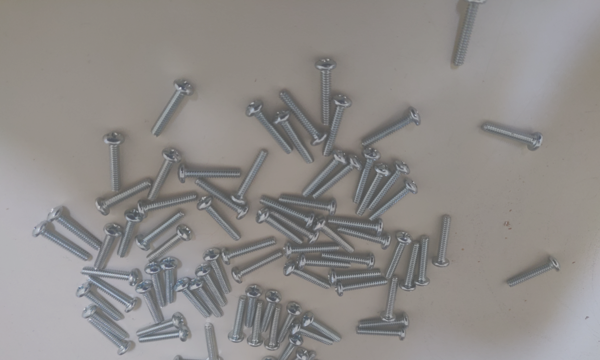longscrew: (249, 101, 295, 155), (149, 78, 192, 135), (137, 145, 180, 202), (281, 91, 324, 145), (298, 151, 347, 197), (314, 155, 363, 200), (362, 109, 421, 146), (276, 112, 314, 167), (137, 208, 183, 253), (370, 181, 420, 222), (34, 227, 87, 265), (324, 92, 353, 159), (196, 180, 248, 217), (454, 0, 484, 64), (370, 162, 409, 211), (311, 61, 339, 128), (52, 210, 100, 249), (86, 275, 135, 312), (77, 284, 126, 321), (83, 308, 132, 345), (139, 186, 195, 218), (83, 321, 131, 358), (95, 180, 151, 211), (506, 260, 559, 292), (235, 149, 267, 202), (146, 226, 193, 262), (104, 131, 132, 191), (233, 255, 287, 285), (222, 234, 276, 264), (482, 124, 544, 150), (201, 201, 240, 242), (349, 149, 378, 203), (359, 165, 388, 219), (257, 211, 302, 244), (274, 210, 319, 243), (315, 220, 356, 256), (284, 264, 333, 294), (339, 224, 393, 251), (262, 198, 314, 226), (282, 193, 336, 219), (331, 209, 385, 235), (117, 208, 145, 258), (177, 281, 212, 321), (190, 281, 225, 321), (93, 221, 122, 269), (194, 266, 228, 306), (201, 253, 235, 293), (137, 313, 186, 339), (386, 232, 412, 278), (302, 315, 345, 342), (291, 325, 338, 348), (178, 166, 245, 182), (81, 267, 140, 285), (433, 213, 452, 267), (327, 269, 386, 285), (227, 298, 246, 346), (242, 284, 261, 332), (247, 304, 266, 352), (262, 286, 281, 334), (280, 303, 302, 344), (337, 281, 387, 299), (146, 261, 164, 309), (267, 306, 285, 354), (402, 239, 418, 292), (402, 240, 418, 292), (139, 330, 190, 346), (139, 281, 157, 326), (162, 258, 179, 305), (357, 326, 408, 341), (362, 317, 413, 332), (295, 258, 356, 270), (320, 255, 381, 267), (283, 245, 344, 257), (384, 274, 398, 325), (204, 323, 223, 360), (276, 335, 304, 360), (278, 351, 308, 360), (285, 356, 315, 360), (262, 355, 275, 360)
